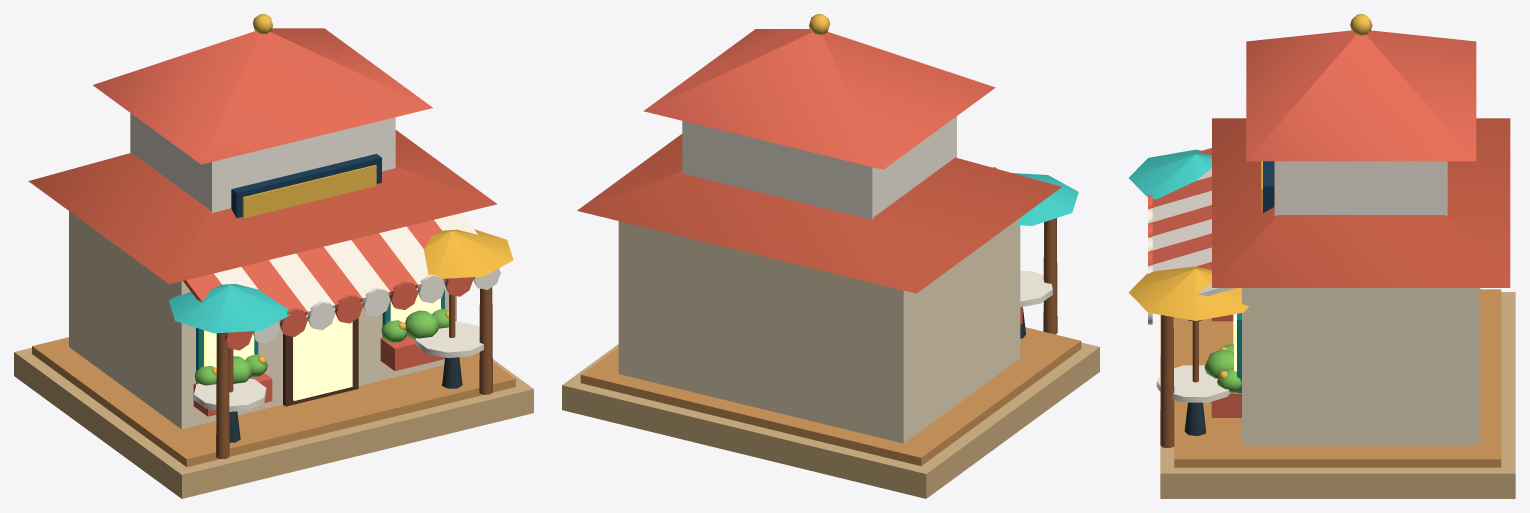
The model's file is restaurant.glb.
The picture shows the model from 3 angles, left to right: view 1: azimuth 30°, elevation 25°; view 2: azimuth 150°, elevation 25°; view 3: azimuth 270°, elevation 25°; orthographic projection. The views are drawn at different scales.
Visible parts, largest first — view 1: Mesh_coral, Mesh_terracotta, Mesh_warmWhite, Mesh_cream, Mesh_sandStone, Mesh_lightWood, Mesh_glowWarm, Mesh_turquoise, Mesh_mango, Mesh_wood, Mesh_gold, Mesh_leafLight (+4 smaller); view 2: Mesh_cream, Mesh_terracotta, Mesh_coral, Mesh_sandStone, Mesh_warmWhite, Mesh_lightWood, Mesh_turquoise, Mesh_wood; view 3: Mesh_cream, Mesh_coral, Mesh_terracotta, Mesh_lightWood, Mesh_sandStone, Mesh_warmWhite, Mesh_mango, Mesh_turquoise, Mesh_wood, Mesh_leafLight, Mesh_iron, Mesh_navy (+1 smaller).
Part boxes in pixels (box(x1,y1,x2,y2)): Mesh_coral: box(93, 28, 473, 416); Mesh_terracotta: box(28, 130, 497, 284); Mesh_warmWhite: box(130, 113, 500, 411); Mesh_cream: box(69, 211, 456, 429); Mesh_sandStone: box(14, 347, 533, 498); Mesh_lightWood: box(32, 337, 515, 466); Mesh_glowWarm: box(204, 288, 440, 400); Mesh_turquoise: box(169, 284, 290, 333); Mesh_mango: box(211, 229, 513, 374); Mesh_wood: box(216, 287, 492, 458); Mesh_gold: box(242, 14, 376, 218); Mesh_leafLight: box(194, 308, 448, 385); Mesh_cream: box(618, 218, 1020, 443); Mesh_terracotta: box(577, 134, 1061, 293); Mesh_coral: box(643, 29, 1022, 324); Mesh_sandStone: box(562, 342, 1099, 498); Mesh_warmWhite: box(682, 116, 1052, 307); Mesh_lightWood: box(580, 327, 1081, 465); Mesh_turquoise: box(1012, 173, 1078, 225); Mesh_wood: box(1043, 218, 1057, 334); Mesh_cream: box(1242, 288, 1480, 445); Mesh_coral: box(1148, 30, 1476, 417); Mesh_terracotta: box(1212, 118, 1510, 287); Mesh_lightWood: box(1174, 289, 1501, 467); Mesh_sandStone: box(1160, 292, 1515, 498); Mesh_warmWhite: box(1148, 161, 1447, 402); Mesh_mango: box(1128, 266, 1248, 379); Mesh_turquoise: box(1129, 149, 1211, 199); Mesh_wood: box(1160, 315, 1198, 448); Mesh_leafLight: box(1204, 344, 1241, 392); Mesh_iron: box(1184, 319, 1205, 435); Mesh_navy: box(1263, 161, 1274, 212).
Size of the model in its own units: 4.6 by 4.64 by 4.14.
